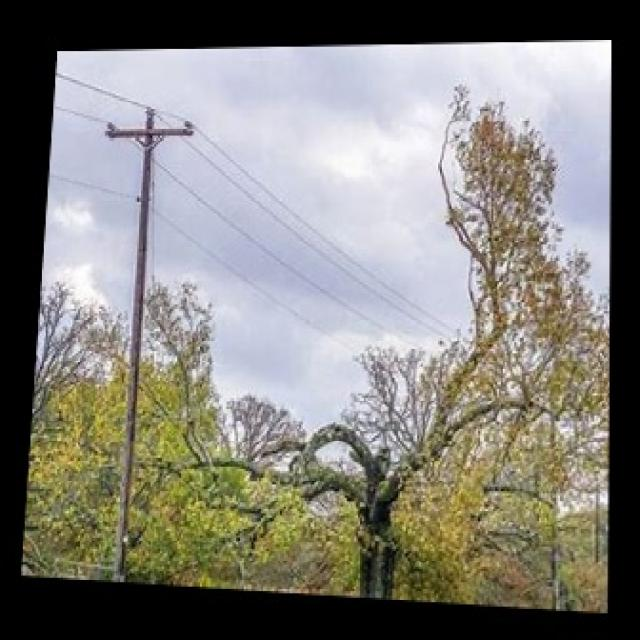utility poles: (102, 90, 182, 586)
